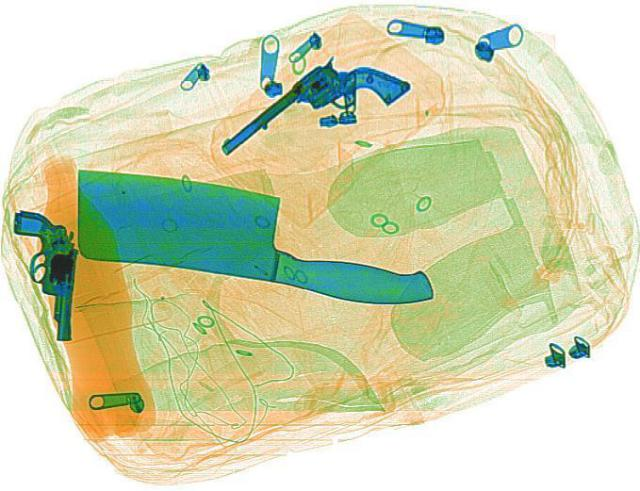Gun: (211, 39, 415, 188), (11, 207, 80, 344)
Knife: (55, 162, 452, 307)
